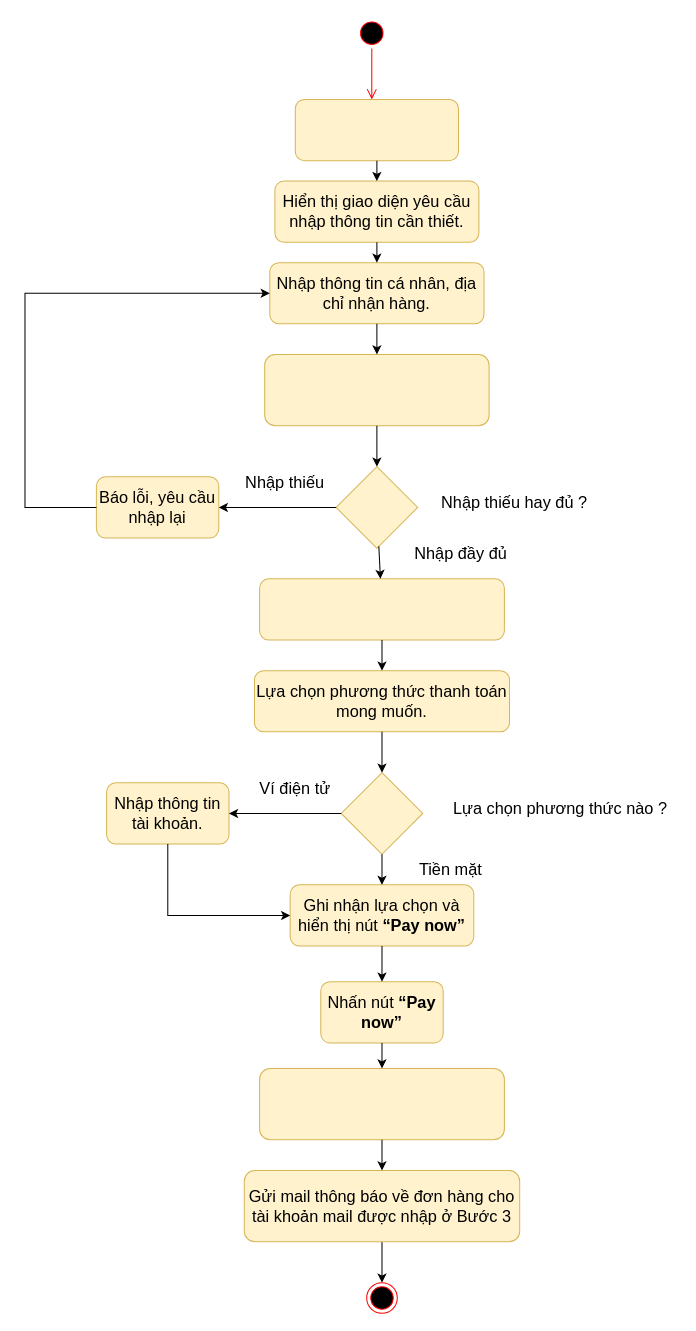
The diagram is 696 pixels wide and 1331 high, and some of its shapes have lost their labels. Each missing label, with the box of its shape:
Kiểm tra các thông tin cần thiết đã được nhập hay chưa.: (264, 353, 489, 426)
Nhấn nút “Next” để chuyển sang bước tiếp theo.: (259, 578, 504, 640)
Nhấn nút “Process checkout”: (294, 98, 458, 161)
Xử lý thanh toán và hiển thị thông báo quá trình thanh toán hoàn thành.: (259, 1067, 504, 1140)
